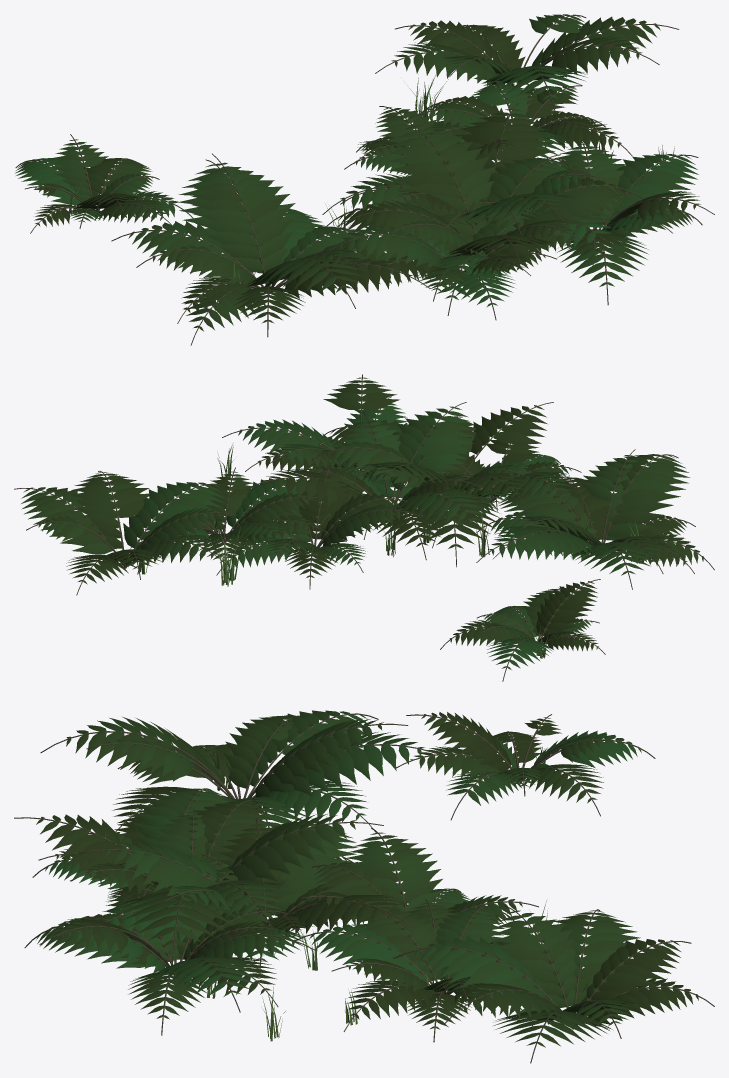
The model's file is ER_Massif_Fougeres_3x2m.gltf.
3 renders of one model, top to bottom at view 1: azimuth 30°, elevation 25°; view 2: azimuth 150°, elevation 25°; view 3: azimuth 270°, elevation 25°, orthographic. The views are drawn at different scales.
Visible parts, largest first — view 1: ER_Massif_Fougeres_3x2m_FOU.001, ER_Massif_Fougeres_3x2m_TIG.001, ER_Massif_Fougeres_3x2m_HER.001; view 2: ER_Massif_Fougeres_3x2m_FOU.001, ER_Massif_Fougeres_3x2m_TIG.001, ER_Massif_Fougeres_3x2m_HER.001; view 3: ER_Massif_Fougeres_3x2m_FOU.001, ER_Massif_Fougeres_3x2m_TIG.001, ER_Massif_Fougeres_3x2m_HER.001.
Boxes of the visible parts, x1=… form: ER_Massif_Fougeres_3x2m_FOU.001: x1=15, y1=14, x2=700, y2=331; ER_Massif_Fougeres_3x2m_TIG.001: x1=15, y1=14, x2=714, y2=345; ER_Massif_Fougeres_3x2m_HER.001: x1=66, y1=56, x2=674, y2=288; ER_Massif_Fougeres_3x2m_FOU.001: x1=21, y1=377, x2=703, y2=669; ER_Massif_Fougeres_3x2m_TIG.001: x1=14, y1=374, x2=714, y2=681; ER_Massif_Fougeres_3x2m_HER.001: x1=137, y1=444, x2=641, y2=658; ER_Massif_Fougeres_3x2m_FOU.001: x1=36, y1=710, x2=698, y2=1047; ER_Massif_Fougeres_3x2m_TIG.001: x1=14, y1=713, x2=714, y2=1063; ER_Massif_Fougeres_3x2m_HER.001: x1=206, y1=744, x2=588, y2=1041.
Size of the model in its own units: 4.05 by 0.5672 by 3.27.
